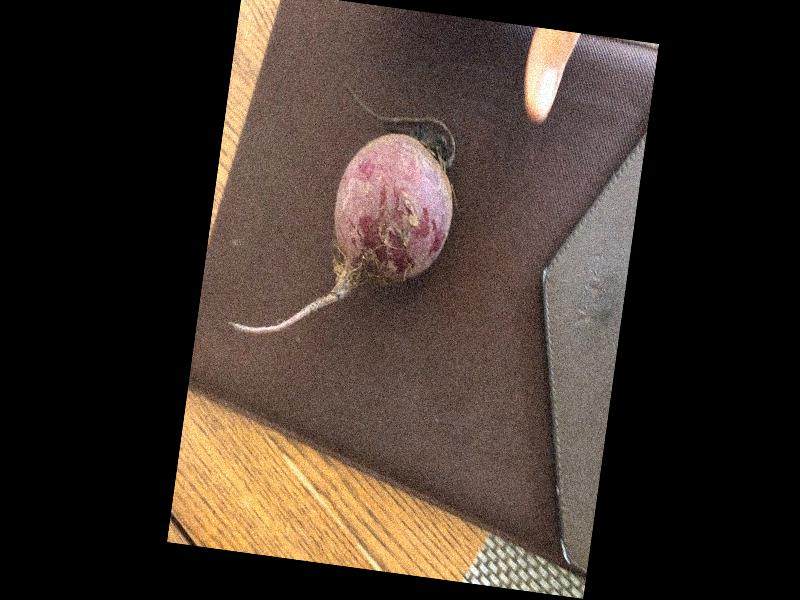Beet: (229, 75, 467, 358)
